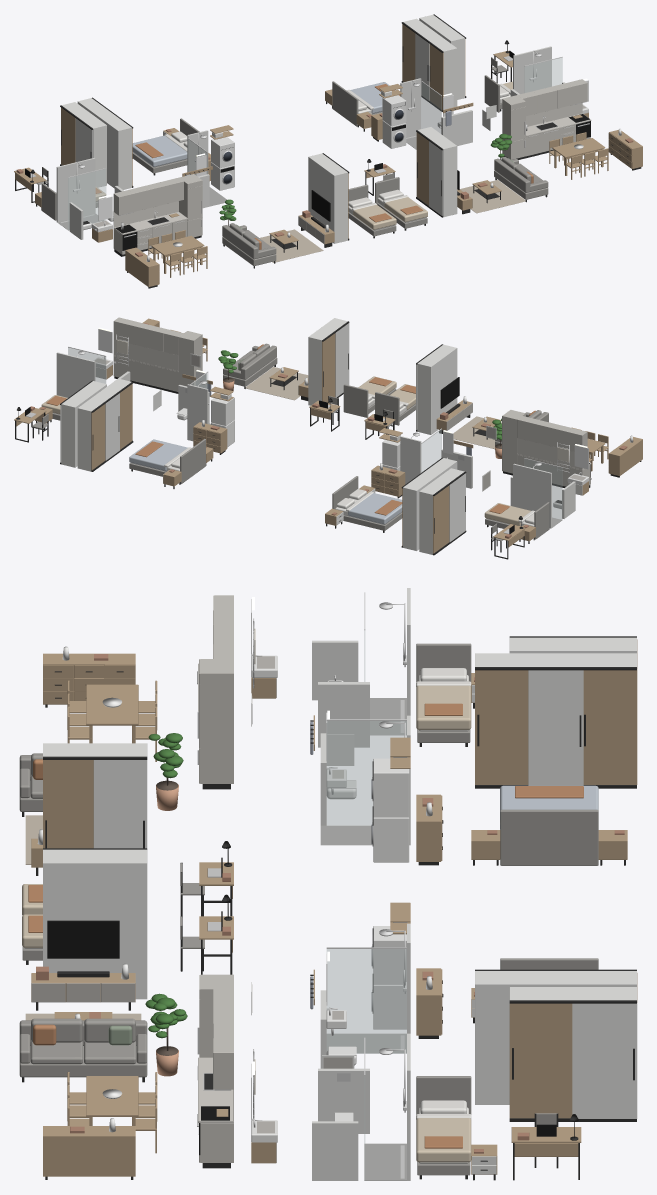
File: arredo_P3.glb
3 renders of one model, top to bottom at view 1: azimuth 30°, elevation 25°; view 2: azimuth 150°, elevation 25°; view 3: azimuth 270°, elevation 25°, orthographic. The views are drawn at different scales.
Parts seen in each view (by area): view 1: arredo_P3; view 2: arredo_P3; view 3: arredo_P3.
Boxes of the visible parts, x1,y1,x2,y2 form: arredo_P3: (14,14,642,288); arredo_P3: (14,317,642,559); arredo_P3: (19,588,637,1180).
Bounding box in the file's own units: 19.8 × 2.6 × 10.67.
